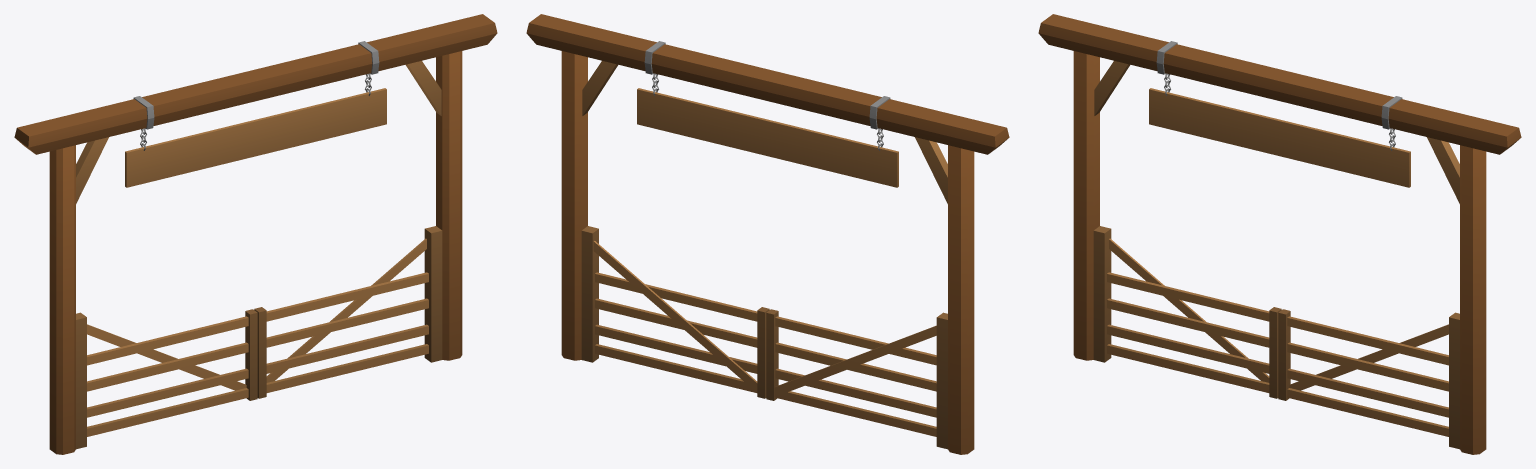
File: Bld_Farm_Gate_Sign_02.obj
3 renders of one model, left to right at view 1: azimuth 30°, elevation 25°; view 2: azimuth 150°, elevation 25°; view 3: azimuth 330°, elevation 25°, orthographic.
Visible parts, largest first — view 1: Bld_Farm_Gate_Sign_02, Bld_Farm_Gate_Sign_Right_02, Bld_Farm_Gate_Sign_Left_02; view 2: Bld_Farm_Gate_Sign_02, Bld_Farm_Gate_Sign_Right_02, Bld_Farm_Gate_Sign_Left_02; view 3: Bld_Farm_Gate_Sign_02, Bld_Farm_Gate_Sign_Left_02, Bld_Farm_Gate_Sign_Right_02.
Boxes of the visible parts, x1,y1,x2,y2 form: Bld_Farm_Gate_Sign_02: (14, 14, 497, 454); Bld_Farm_Gate_Sign_Right_02: (254, 226, 442, 398); Bld_Farm_Gate_Sign_Left_02: (76, 309, 257, 449); Bld_Farm_Gate_Sign_02: (526, 14, 1009, 454); Bld_Farm_Gate_Sign_Right_02: (581, 226, 769, 398); Bld_Farm_Gate_Sign_Left_02: (766, 309, 947, 449); Bld_Farm_Gate_Sign_02: (1038, 14, 1521, 454); Bld_Farm_Gate_Sign_Left_02: (1093, 226, 1281, 398); Bld_Farm_Gate_Sign_Right_02: (1278, 309, 1459, 449).
Bounding box in the file's own units: 8.27 × 5.53 × 0.4733.
Materials: 1 (1 with a texture image).
